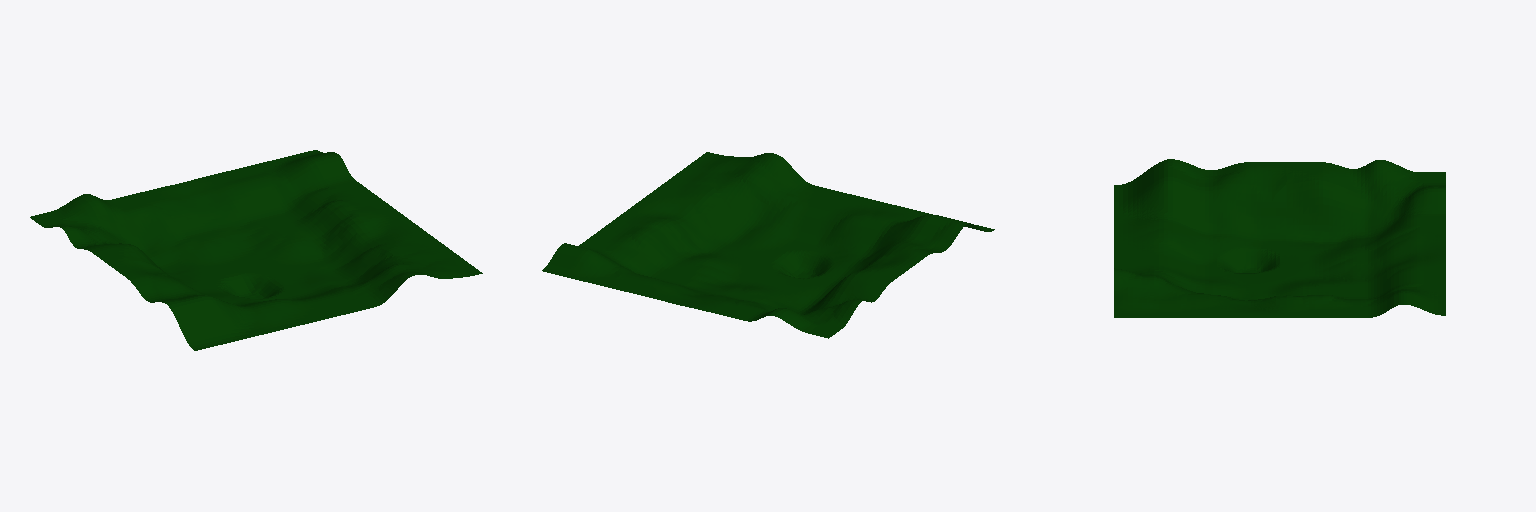
Rendered from terrain.obj.
The picture shows the model from 3 angles: view 1: azimuth 30°, elevation 25°; view 2: azimuth 150°, elevation 25°; view 3: azimuth 270°, elevation 25°; orthographic projection.
Parts seen in each view (by area): view 1: pPlane1; view 2: pPlane1; view 3: pPlane1.
Boxes of the visible parts, box(x1,y1,x2,y2) form: pPlane1: box(30, 150, 482, 350); pPlane1: box(542, 152, 994, 338); pPlane1: box(1114, 159, 1445, 317).
Bounding box in the file's own units: 30 × 5.31 × 30.